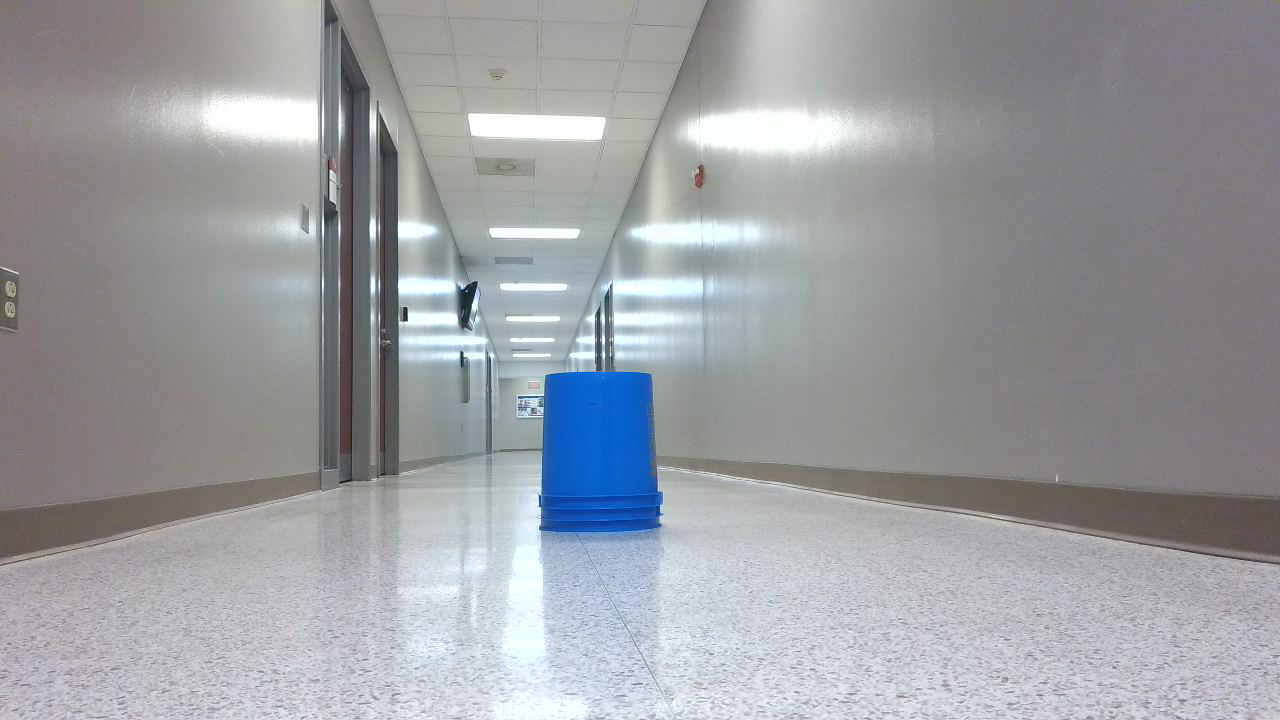blue_bucket: (543, 375, 671, 541)
